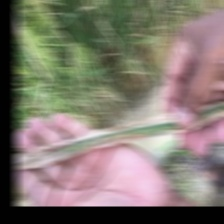Leaf_Blast: (16, 98, 224, 171)
